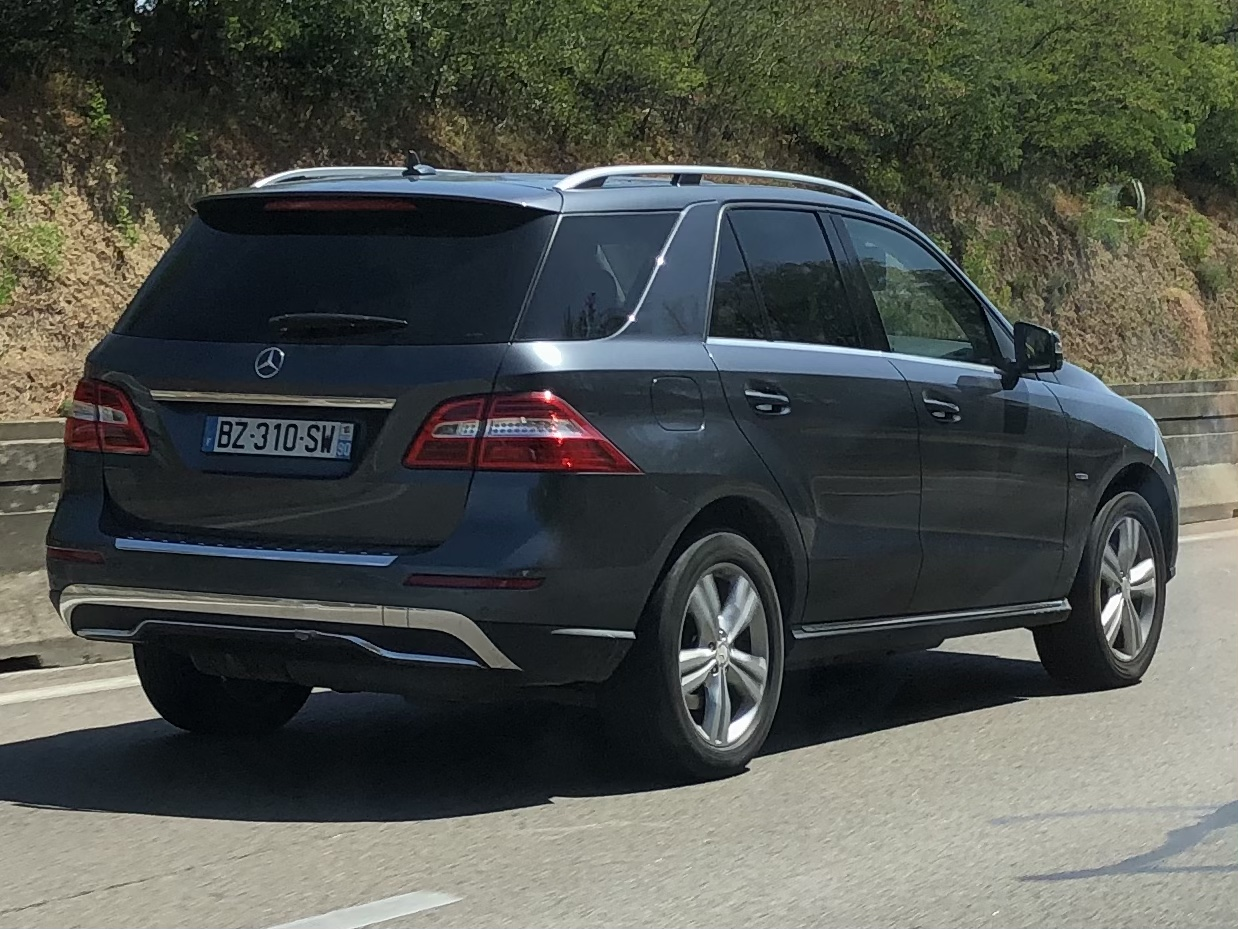licence plate: (196, 408, 356, 462)
